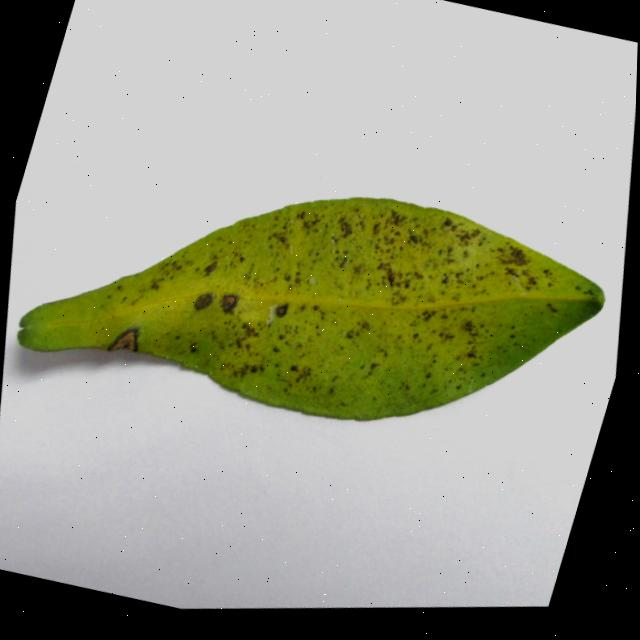melanose: (17, 197, 603, 419)
